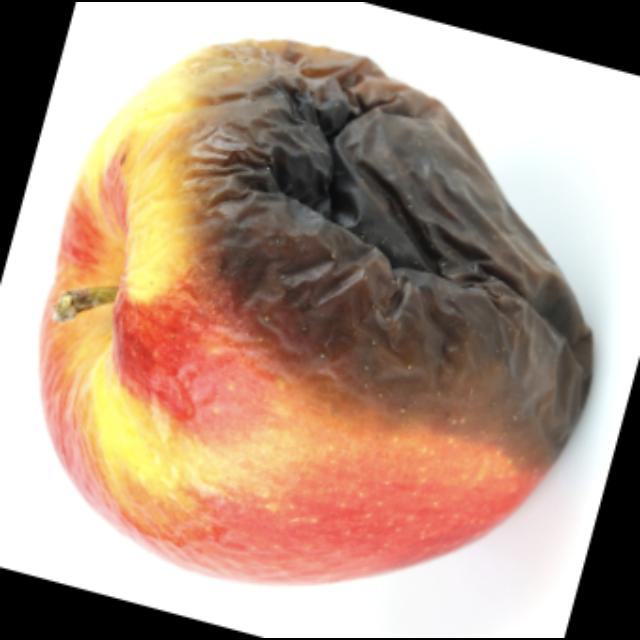Apel Tidak Segar: (34, 33, 600, 593)
